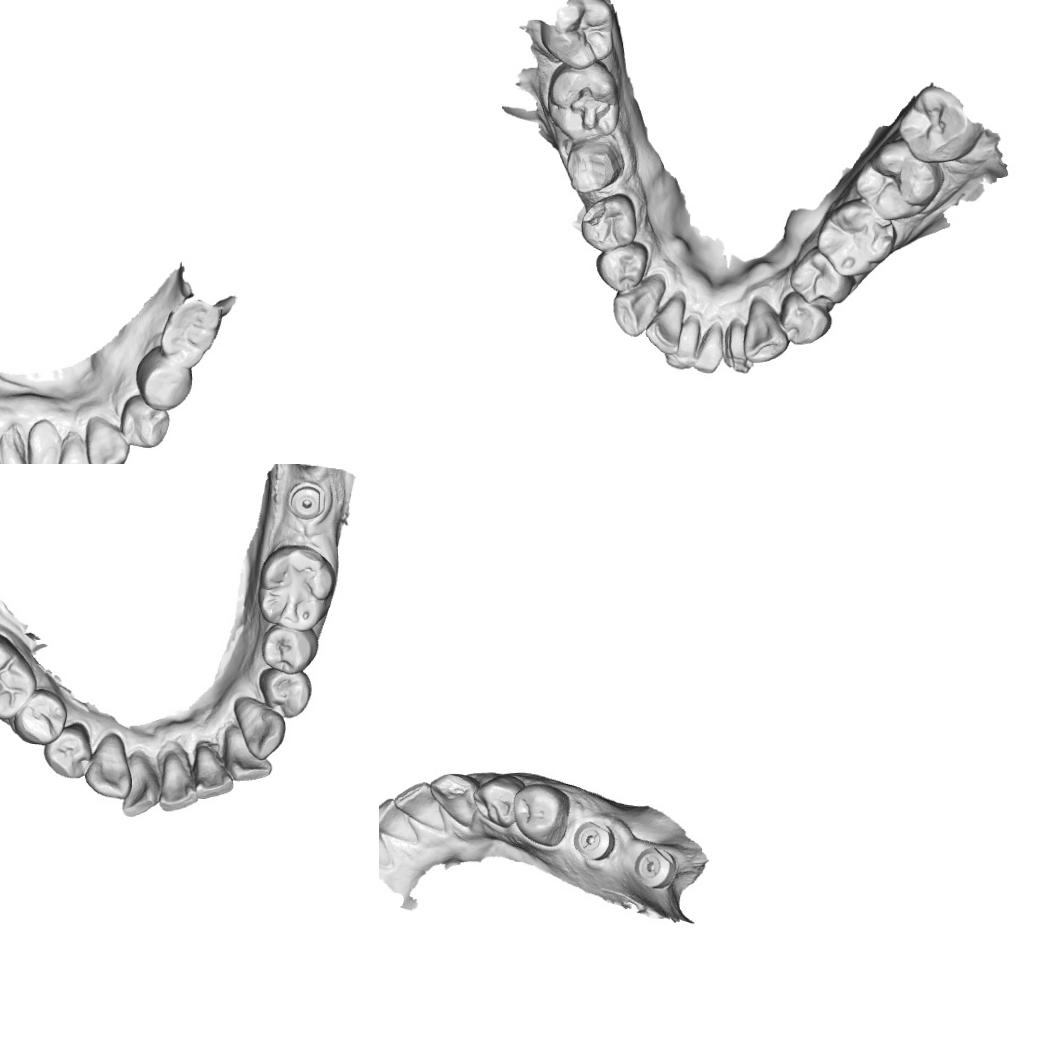canine: (610, 274, 666, 338), (232, 695, 286, 761), (428, 770, 482, 835), (85, 730, 132, 802), (742, 296, 790, 364), (84, 415, 131, 464)
crown: (563, 134, 627, 194)
implant: (282, 480, 335, 524)
implant_minus: (569, 818, 615, 864), (632, 846, 680, 888)
incisor: (220, 722, 274, 784), (644, 294, 687, 357), (191, 739, 233, 801), (157, 750, 197, 814), (120, 752, 157, 819), (379, 797, 423, 849), (664, 314, 702, 372), (396, 780, 445, 822), (26, 417, 65, 464), (693, 318, 724, 376), (722, 316, 752, 374), (56, 429, 97, 464), (0, 428, 29, 464), (379, 820, 391, 865)
inlay: (566, 82, 614, 133)
molar: (853, 138, 946, 224), (253, 542, 340, 632), (815, 198, 898, 278), (895, 83, 973, 165), (538, 0, 617, 71), (159, 294, 222, 367), (0, 631, 33, 719)
premolar: (134, 344, 194, 412), (788, 244, 854, 305), (512, 782, 572, 848), (578, 192, 640, 253), (254, 664, 314, 720), (777, 290, 834, 347), (258, 625, 322, 674), (40, 720, 92, 780), (120, 392, 172, 450), (594, 240, 650, 292), (14, 694, 67, 741), (475, 778, 521, 824)
